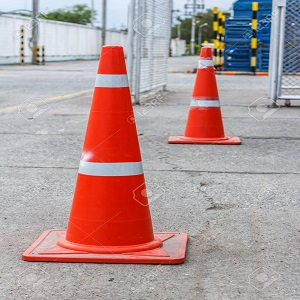traffic cone: (22, 45, 189, 265), (169, 47, 241, 145)
